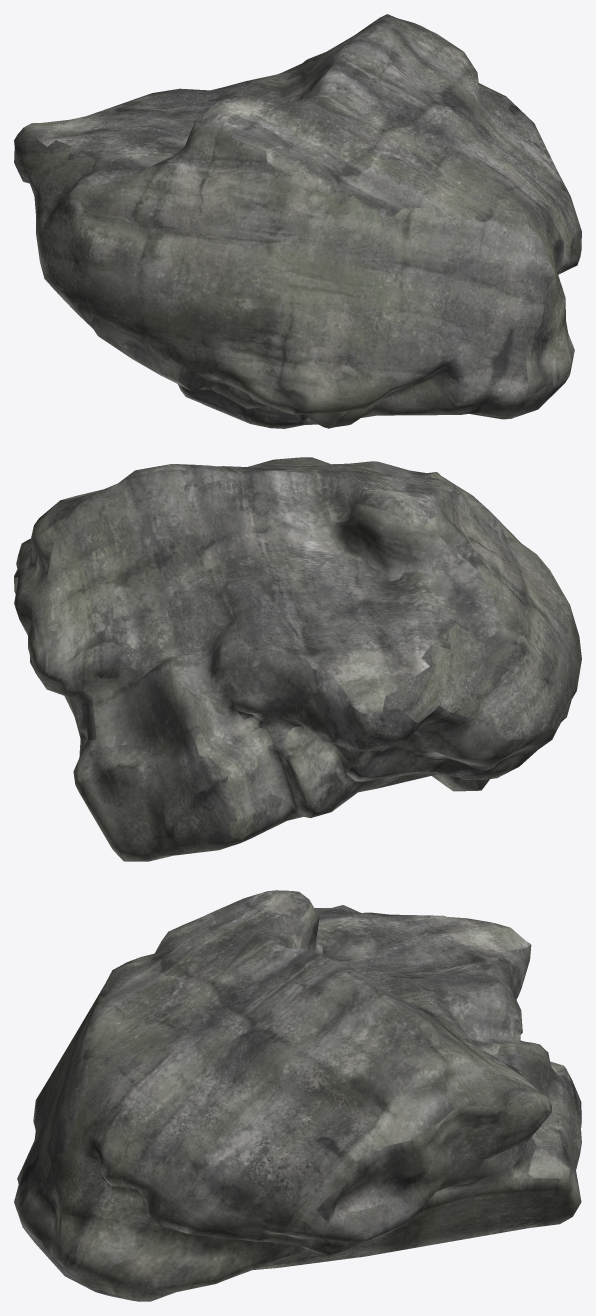
File: SM_Large_Rock_C.fbx
3 renders of one model, top to bottom at view 1: azimuth 30°, elevation 25°; view 2: azimuth 150°, elevation 25°; view 3: azimuth 270°, elevation 25°, orthographic. The views are drawn at different scales.
Visible parts, largest first — view 1: SM_Large_Rock_C_LOD0; view 2: SM_Large_Rock_C_LOD0; view 3: SM_Large_Rock_C_LOD0.
Boxes of the visible parts, <box> form: SM_Large_Rock_C_LOD0: <box>14,14,581,428</box>; SM_Large_Rock_C_LOD0: <box>14,457,581,861</box>; SM_Large_Rock_C_LOD0: <box>14,890,581,1301</box>.
Size of the model in its own units: 150 by 151 by 90.24.
